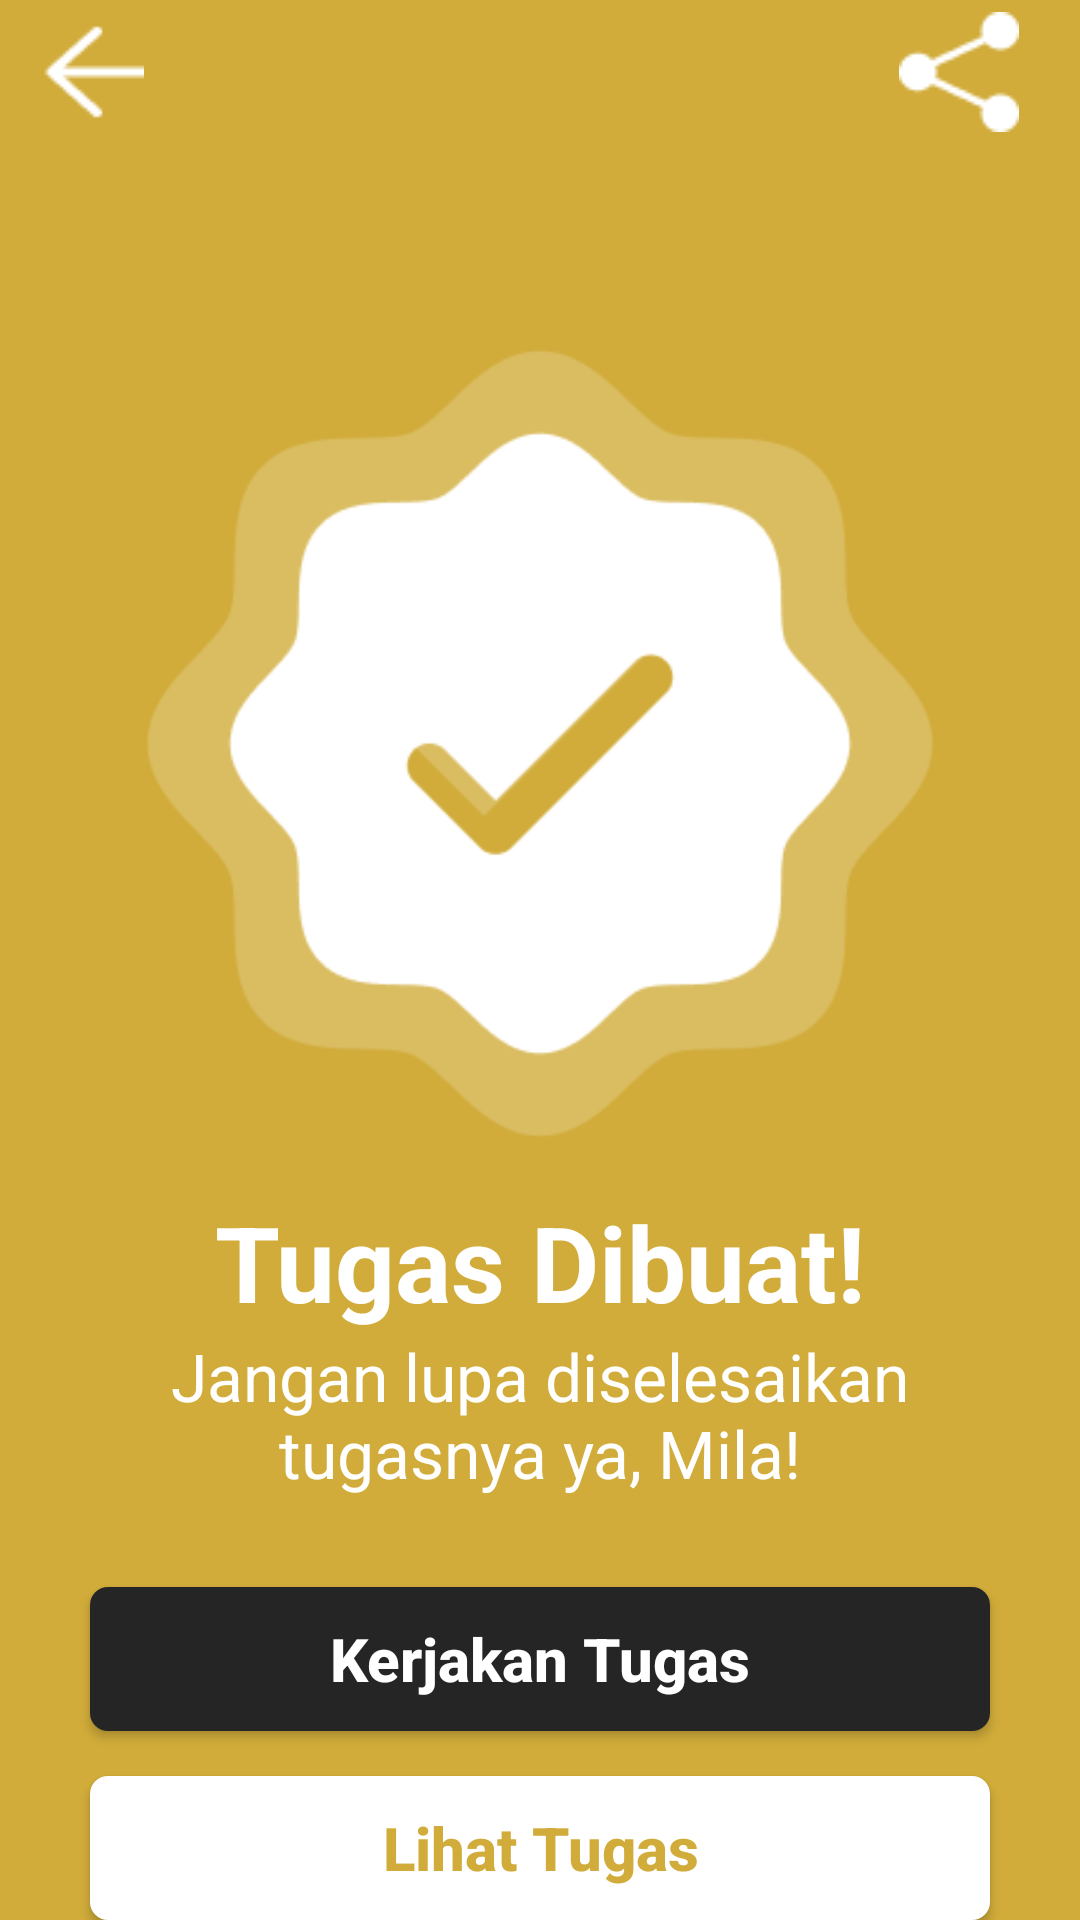

Screen size 1080*1920. Icon name, then its center in pixels as (x=x, y=y):
back: (x=94, y=72)
share: (x=959, y=72)
